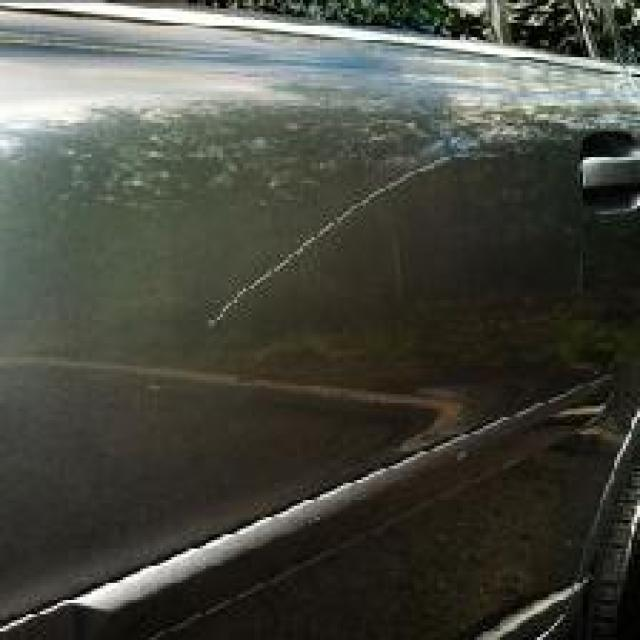door_scratch_minor: (234, 189, 386, 294)
